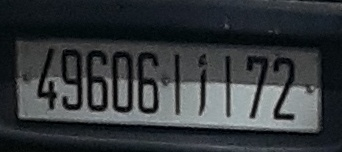0: (108, 51, 137, 116)
2: (269, 54, 303, 122)
4: (34, 45, 58, 113)
6: (135, 50, 162, 116), (86, 46, 108, 117)
7: (240, 52, 271, 120)
9: (59, 44, 83, 114)
a: (190, 51, 213, 120)
